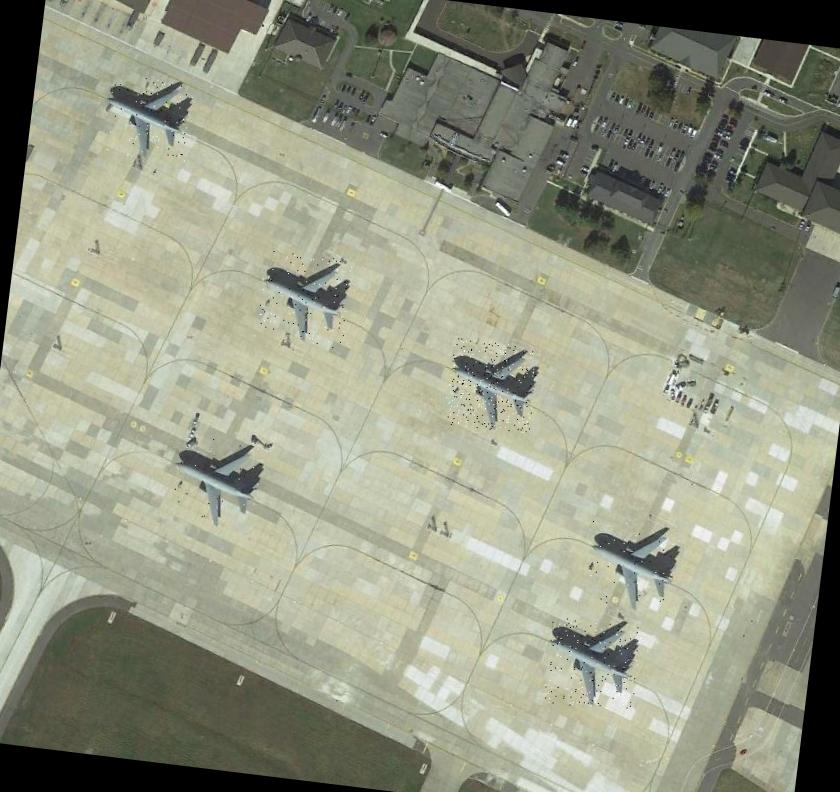A18: (253, 250, 353, 349), (542, 616, 642, 713), (442, 337, 540, 434), (583, 518, 681, 615), (170, 435, 264, 533), (104, 74, 194, 162)
